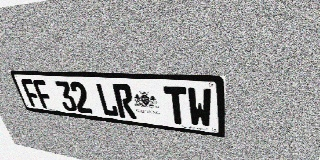2: (68, 81, 93, 114)
3: (54, 81, 78, 112)
F: (20, 79, 43, 108), (32, 80, 55, 109)
L: (95, 83, 119, 117)
R: (112, 83, 137, 119)
T: (163, 86, 189, 125)
W: (187, 87, 212, 128)
